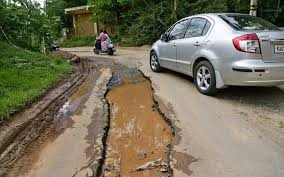pothole: (93, 66, 181, 177)
